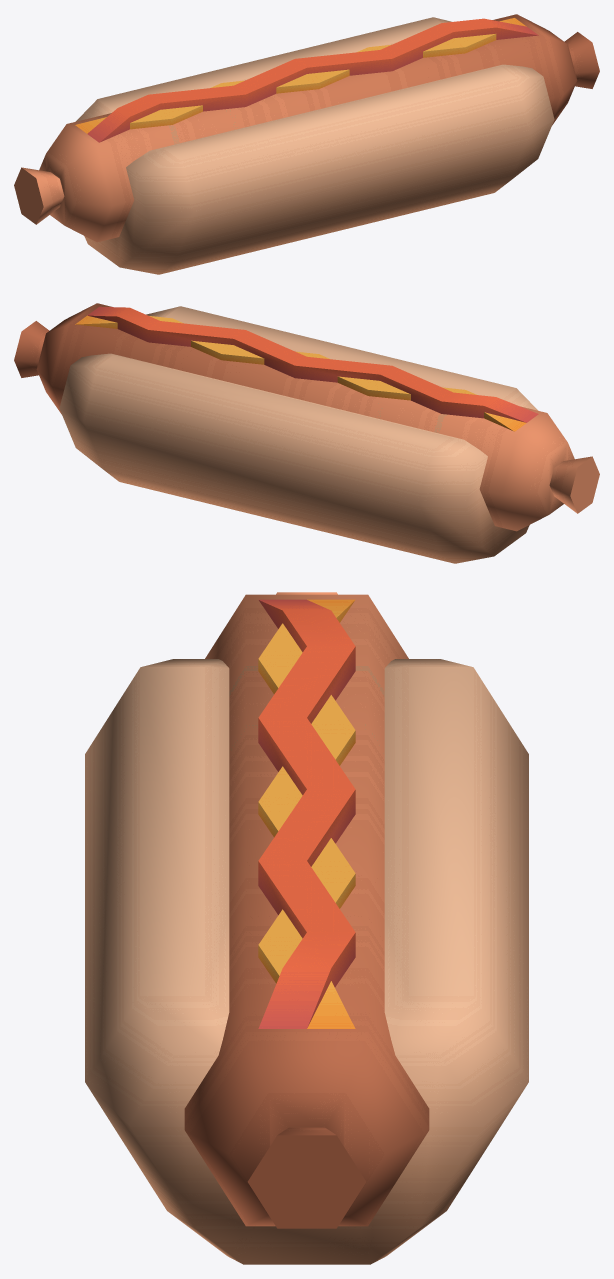
Rendered from hot-dog.glb.
The picture shows the model from 3 angles, top to bottom: view 1: azimuth 30°, elevation 25°; view 2: azimuth 150°, elevation 25°; view 3: azimuth 270°, elevation 25°; orthographic projection. The views are drawn at different scales.
Visible parts, largest first — view 1: hot-dog, sausage, sauce; view 2: hot-dog, sausage, sauce; view 3: hot-dog, sausage, sauce.
Boxes of the visible parts, left/top/right/bottom form: hot-dog: left=75, top=17, right=554, bottom=274; sausage: left=14, top=14, right=599, bottom=242; sauce: left=75, top=18, right=538, bottom=142; hot-dog: left=59, top=306, right=538, bottom=563; sausage: left=14, top=303, right=599, bottom=531; sauce: left=75, top=306, right=538, bottom=431; hot-dog: left=85, top=659, right=528, bottom=1264; sausage: left=184, top=592, right=429, bottom=1228; sauce: left=258, top=599, right=355, bottom=1028.
Bounding box in the file's own units: 0.5859 × 0.1525 × 0.2026.
1 material, 1 textured.
